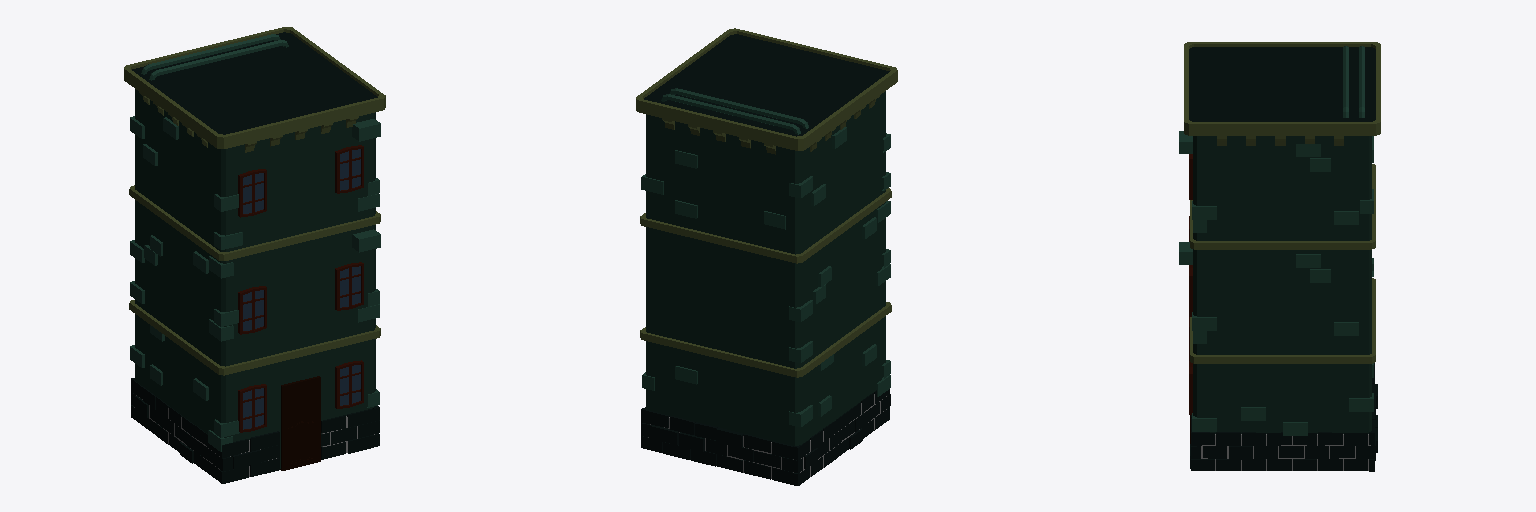
The model's file is 3Story_Small_Mat.obj.
The picture shows the model from 3 angles: view 1: azimuth 30°, elevation 25°; view 2: azimuth 150°, elevation 25°; view 3: azimuth 270°, elevation 25°; orthographic projection.
Visible parts, largest first — view 1: 3Story_Small_Mat_Cube.011; view 2: 3Story_Small_Mat_Cube.011; view 3: 3Story_Small_Mat_Cube.011.
Boxes of the visible parts, <box> form: 3Story_Small_Mat_Cube.011: <box>124,27,385,483</box>; 3Story_Small_Mat_Cube.011: <box>636,28,897,485</box>; 3Story_Small_Mat_Cube.011: <box>1179,42,1380,471</box>.
Size of the model in its own units: 1.91 by 3.85 by 1.97.